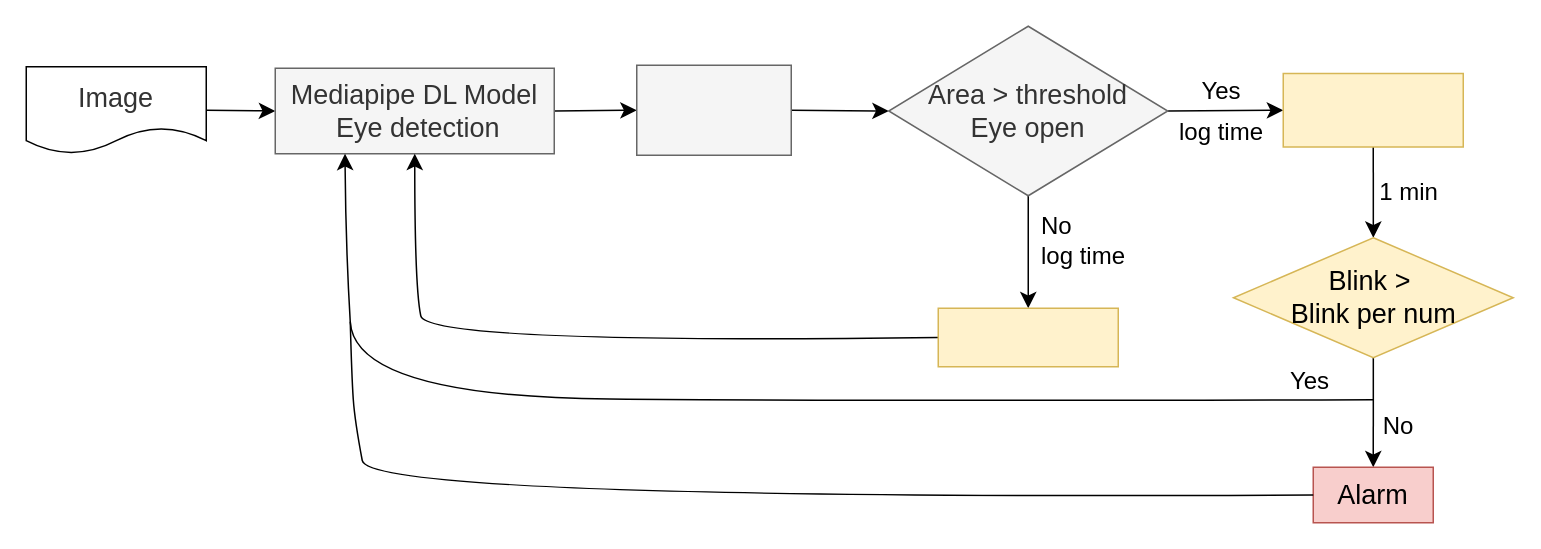
The diagram is 1541 pixels wide and 549 high, and some of its shapes have lost their labels. The centre of each missing label's shape, as x and y in pixels:
Area Ratio: the point at 713,109
Blink +1: the point at 1027,337
counting (ms): the point at 1372,109
